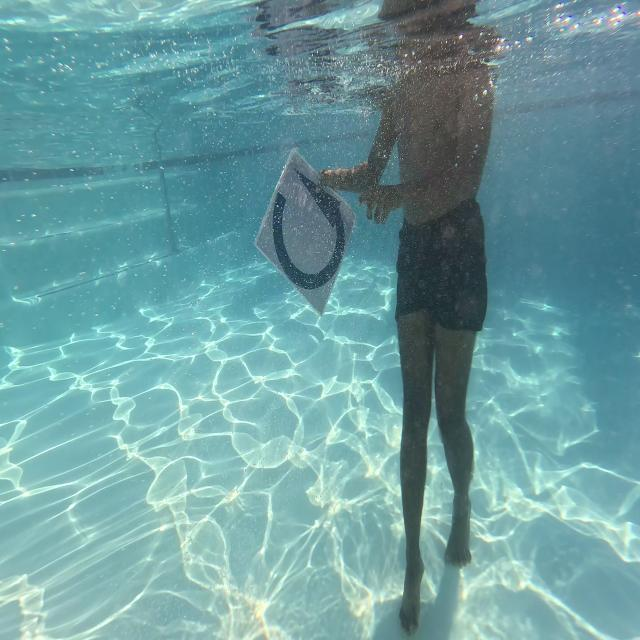blue_side: (257, 147, 352, 308)
